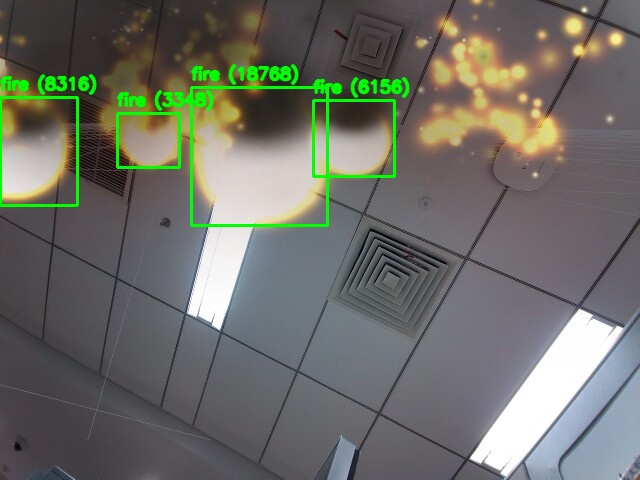fire: (191, 87, 327, 225), (0, 97, 77, 205), (313, 100, 394, 176), (117, 113, 179, 167)
